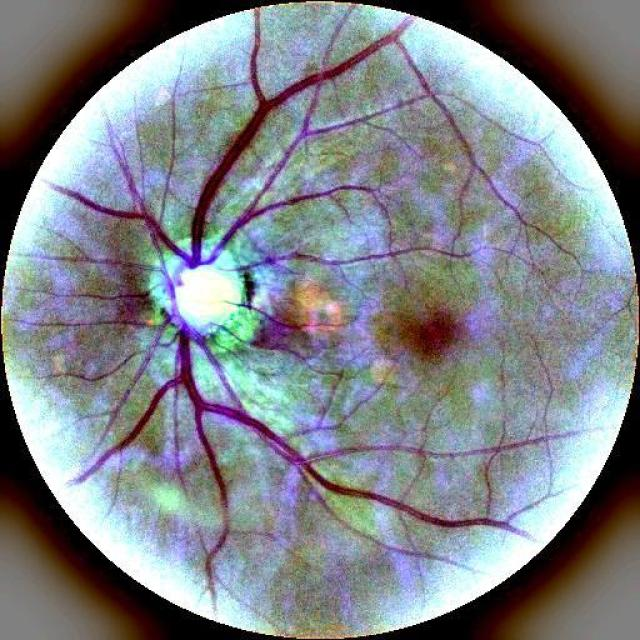Macula: (395, 308, 464, 361)
Nerves: (191, 20, 317, 262), (180, 331, 228, 540), (318, 44, 380, 79), (220, 410, 249, 420)
Optic Disk: (151, 249, 264, 349)
